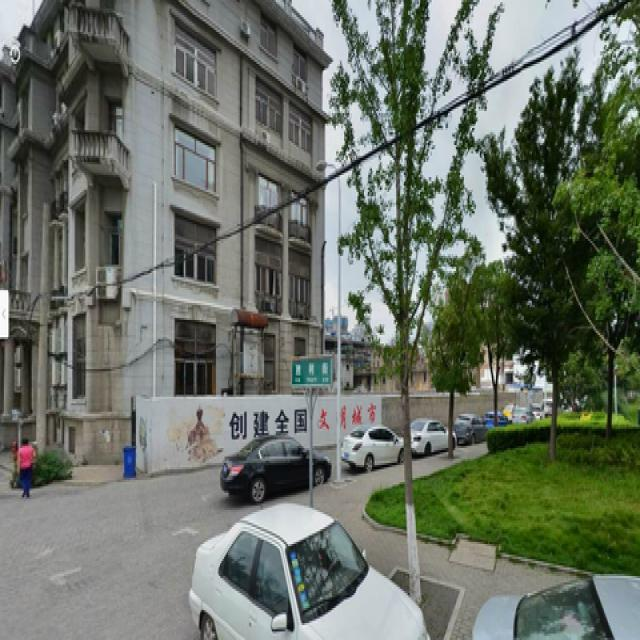gink: (337, 4, 464, 587)
